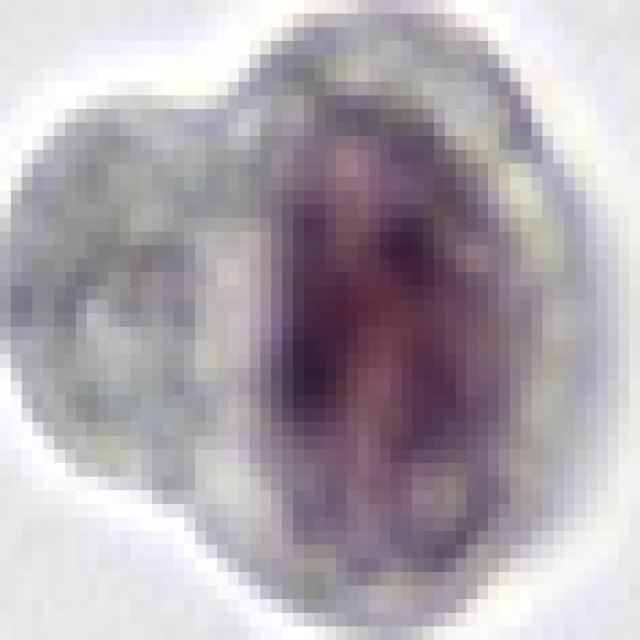nucleus: (219, 83, 566, 597)
